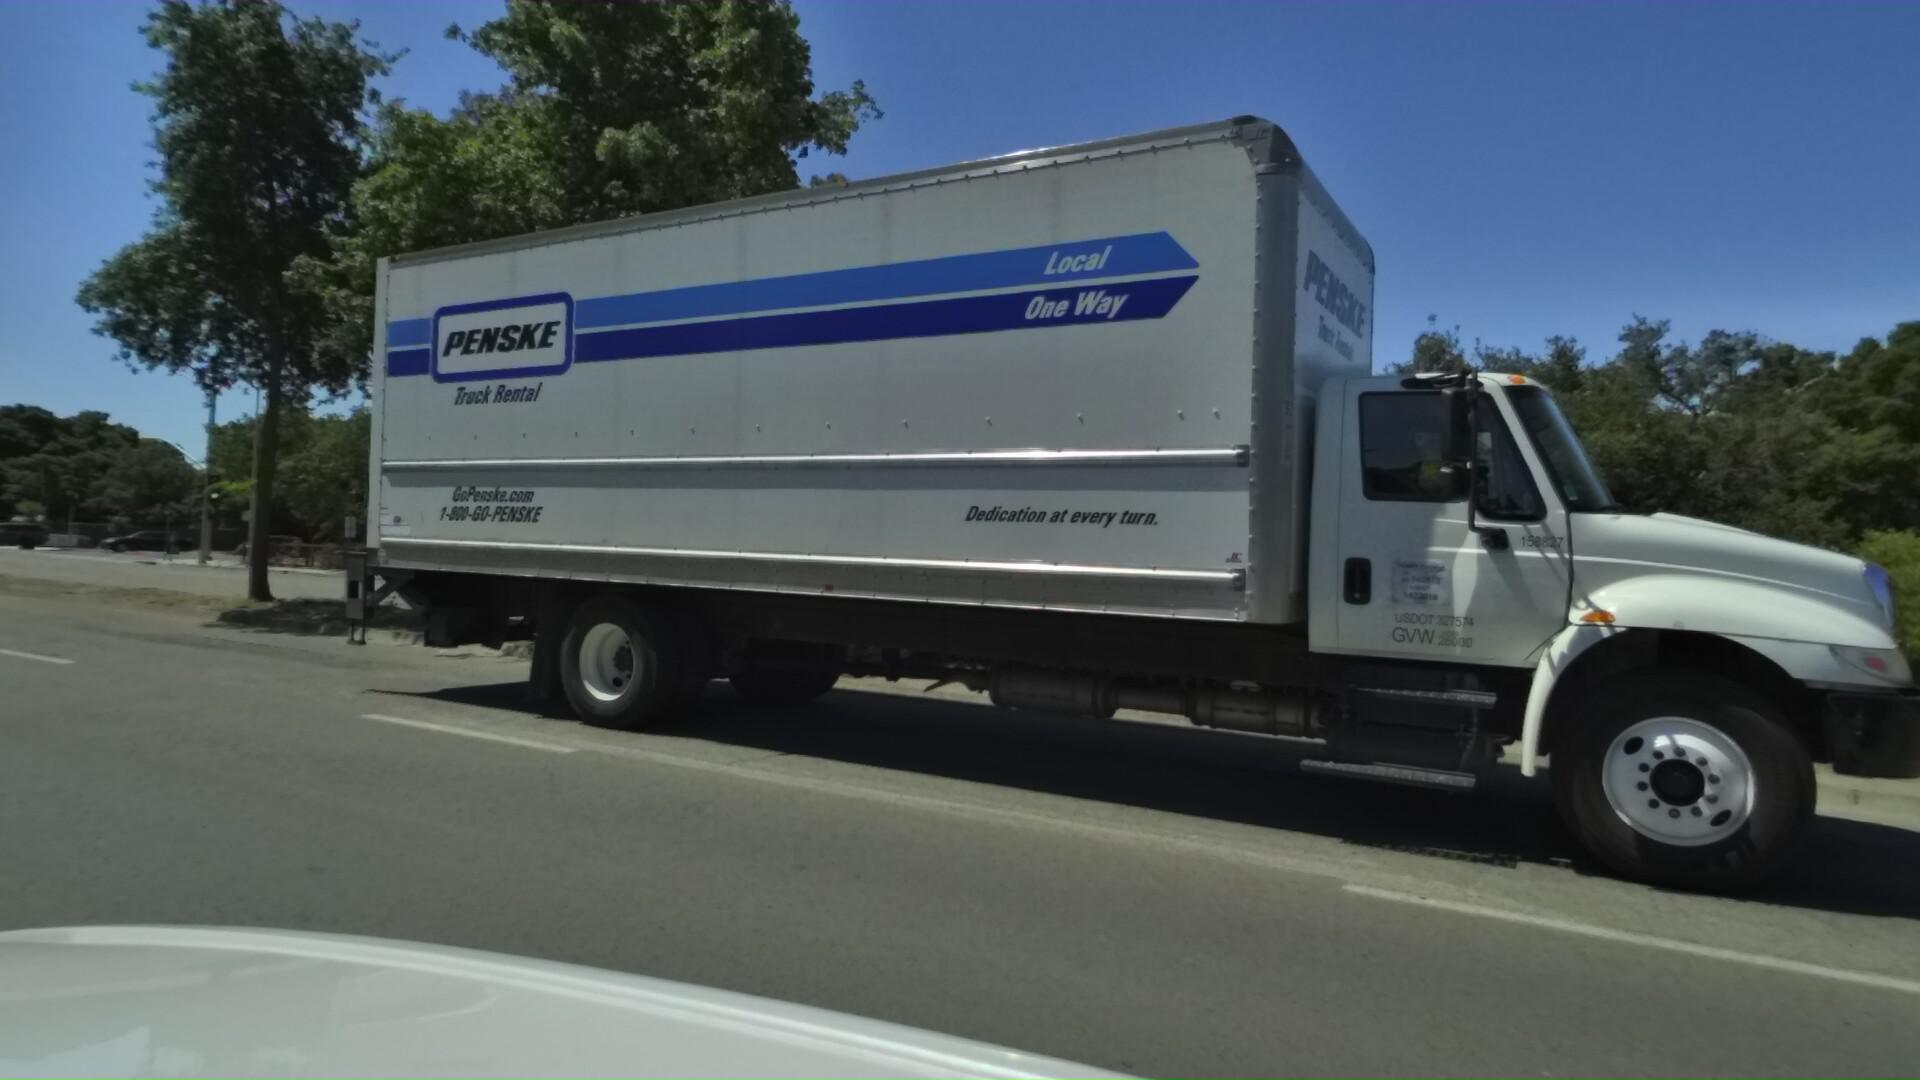car: (88, 524, 204, 558), (0, 518, 57, 549)
truck: (305, 0, 1920, 1026)
